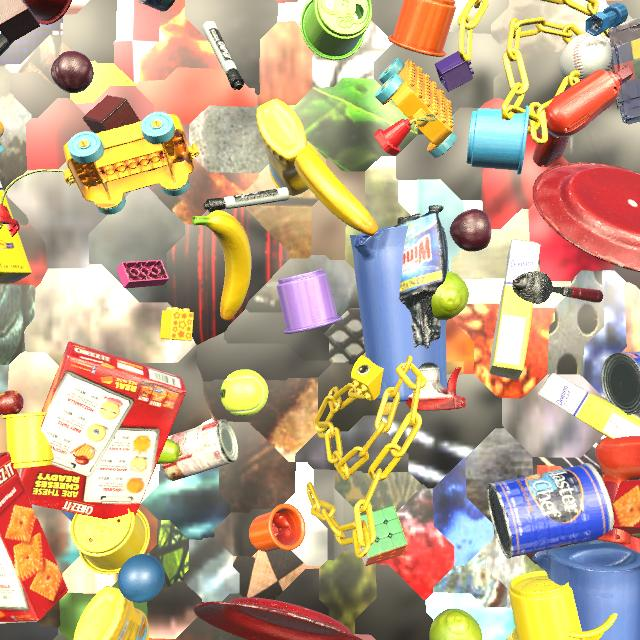ycb_002_master_chef_can: (487, 463, 614, 559)
ycb_003_cracker_box: (19, 341, 187, 522), (0, 452, 68, 622), (612, 480, 640, 539), (0, 413, 1, 415)
ycb_004_sugar_box: (489, 239, 541, 380), (538, 373, 640, 439), (0, 182, 32, 284)
ycb_005_tomato_soup_can: (160, 419, 238, 481)
ycb_006_mustard_bottle: (256, 99, 309, 196), (73, 586, 149, 640)
ycb_007_tuna_fish_can: (601, 351, 640, 415), (139, 0, 175, 12)
ycb_011_banana: (295, 143, 378, 236), (191, 210, 251, 321)
ycb_016_pear: (431, 271, 469, 320), (429, 608, 482, 640), (157, 438, 182, 464)
ycb_018_plum: (51, 51, 94, 93), (450, 209, 491, 252)
